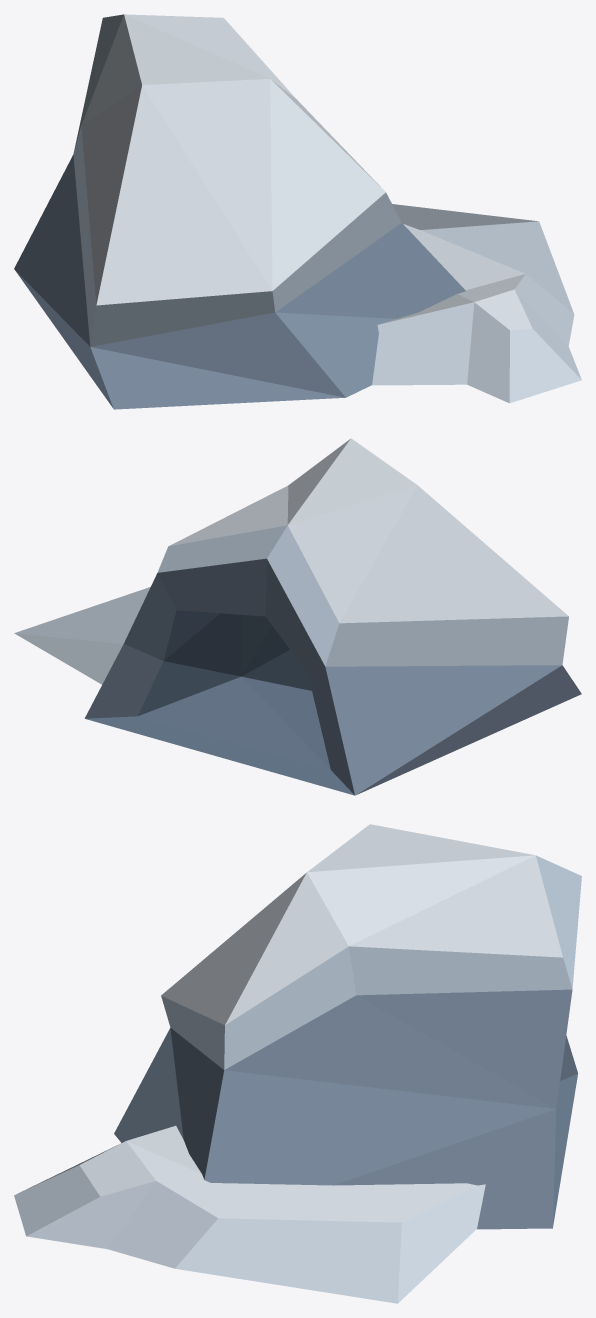
The model's file is CaveWinter_Alt4.fbx.
3 views of the same model, one above another, from view 1: azimuth 30°, elevation 25°; view 2: azimuth 150°, elevation 25°; view 3: azimuth 270°, elevation 25° (orthographic). The views are drawn at different scales.
Parts seen in each view (by area): view 1: CaveWinter_Alt4; view 2: CaveWinter_Alt4; view 3: CaveWinter_Alt4.
Boxes of the visible parts, <box> form: CaveWinter_Alt4: <box>14,14,581,409</box>; CaveWinter_Alt4: <box>14,438,581,795</box>; CaveWinter_Alt4: <box>14,824,581,1303</box>.
Bounding box in the file's own units: 2.71 × 1.27 × 2.42.
